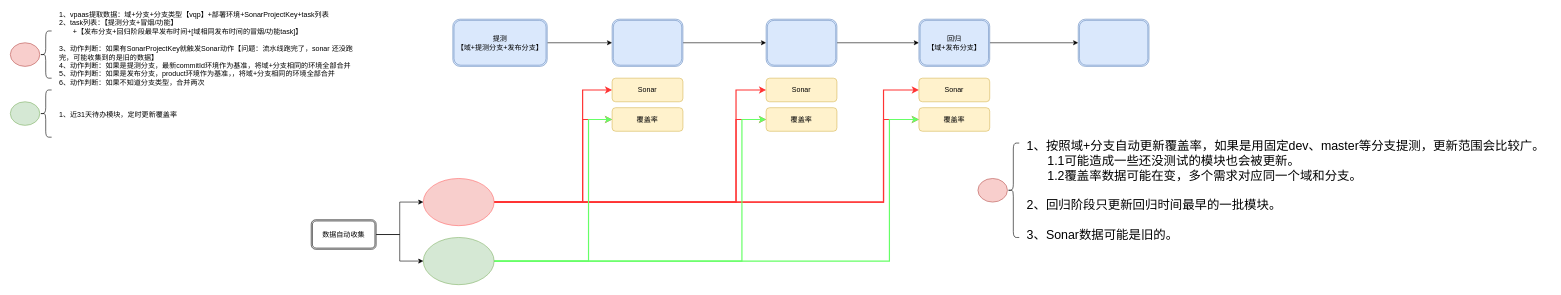
Image size: 1561x295. Some labels were removed from this diagram. The shapes that lost their labels are listed below. From the top down, each one's box as (x1, y1, x2, y2) in pixels, then its label:
(612, 19, 683, 66): 冒烟 【域+提测分支】
(766, 19, 837, 66): 功能 【域+提测分支】
(1078, 19, 1149, 66): 选包
(423, 178, 494, 226): vpaas流水线 构建完成 【域+分支】
(423, 237, 494, 285): 5分钟定时任务
